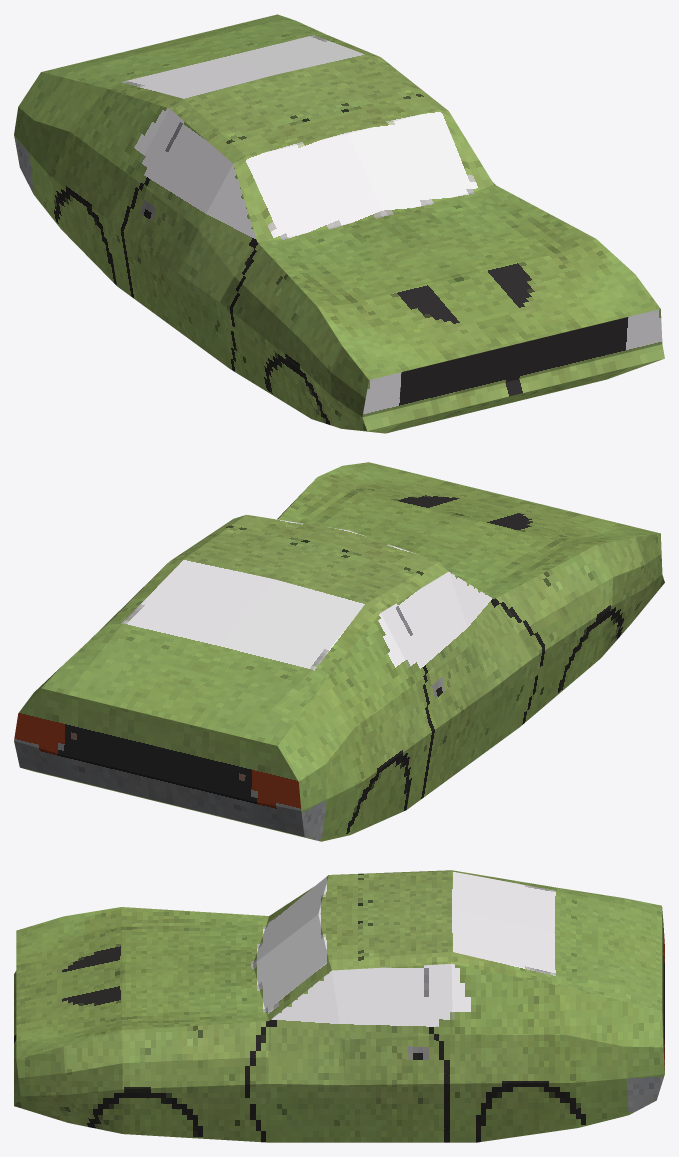
File: mach1.glb
The picture shows the model from 3 angles, top to bottom: view 1: azimuth 30°, elevation 25°; view 2: azimuth 150°, elevation 25°; view 3: azimuth 270°, elevation 25°; orthographic projection. The views are drawn at different scales.
Parts seen in each view (by area): view 1: Cube; view 2: Cube; view 3: Cube.
Part boxes in pixels (x1,y1,x2,y2): Cube: [14, 14, 664, 433]; Cube: [14, 462, 664, 841]; Cube: [14, 870, 664, 1142].
Size of the model in its own units: 1.83 by 1.06 by 3.62.
1 material, 1 textured.
